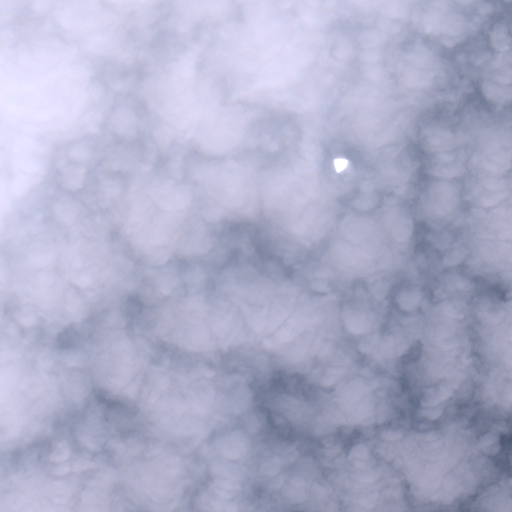Iceberg: (334, 159, 347, 171)
